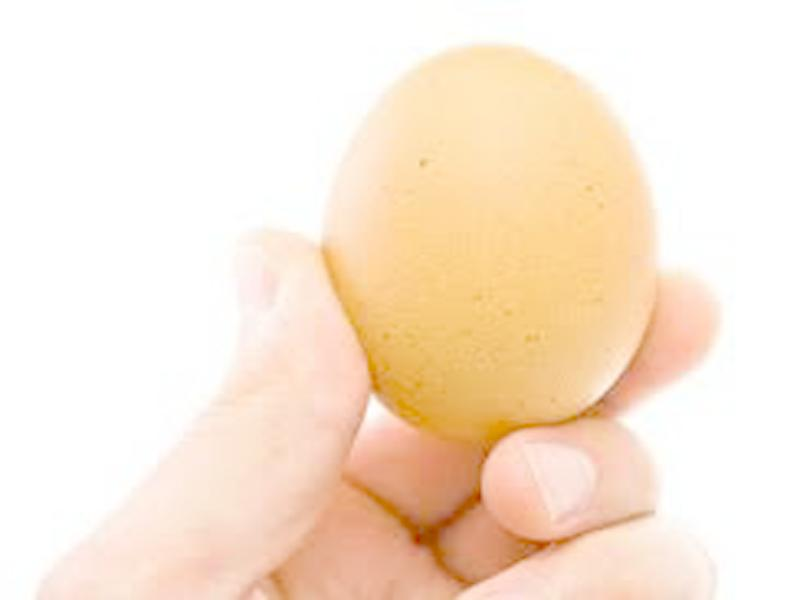Eggs: (321, 41, 659, 432)
